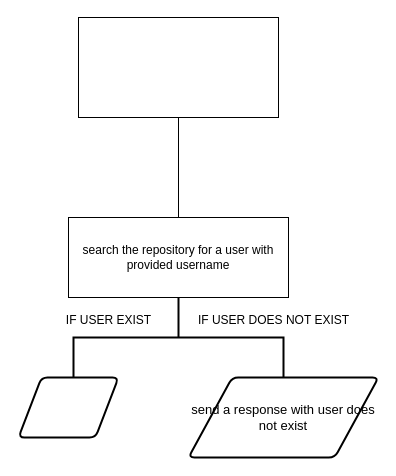
This 396x476 diagram has some shape labels left out. Here are the shapes that lost their labels. From the top down, the centre of each, then its label:
At [178,67]: "Get username and password from request body us and ps".
At [68,407]: "Match the password".
